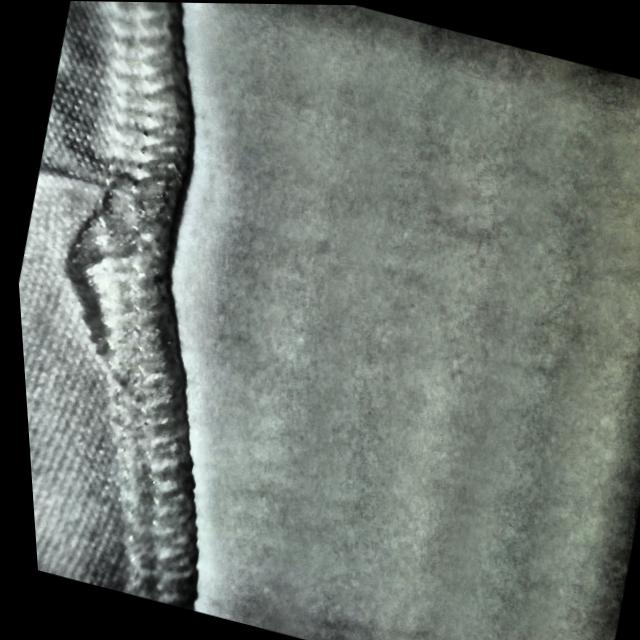seam: (7, 120, 202, 353)
